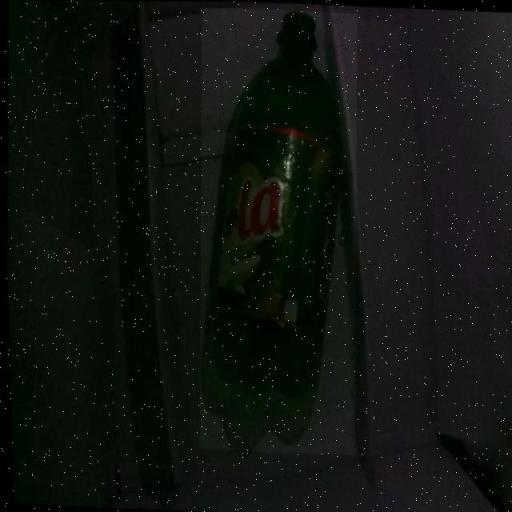plastic: (186, 6, 367, 456)
